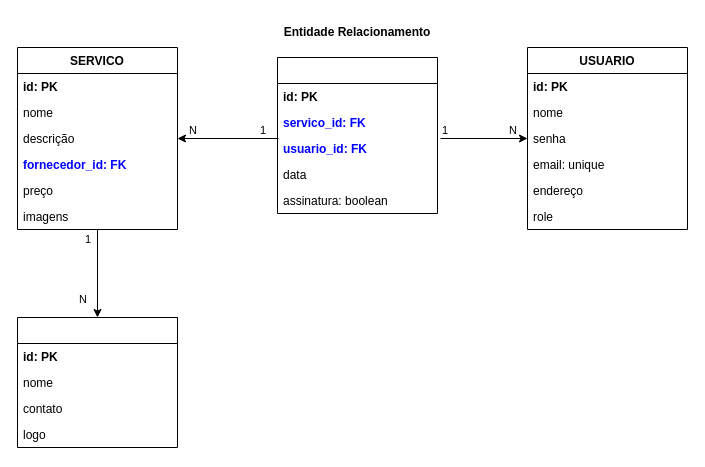
This 705x467 diagram has some shape labels left out. The box of each missing label's shape, as (x1, y1, x2, y2) in pixels:
FORNECEDOR: (16, 316, 178, 448)
SERVICO_USUARIO: (276, 56, 438, 214)
